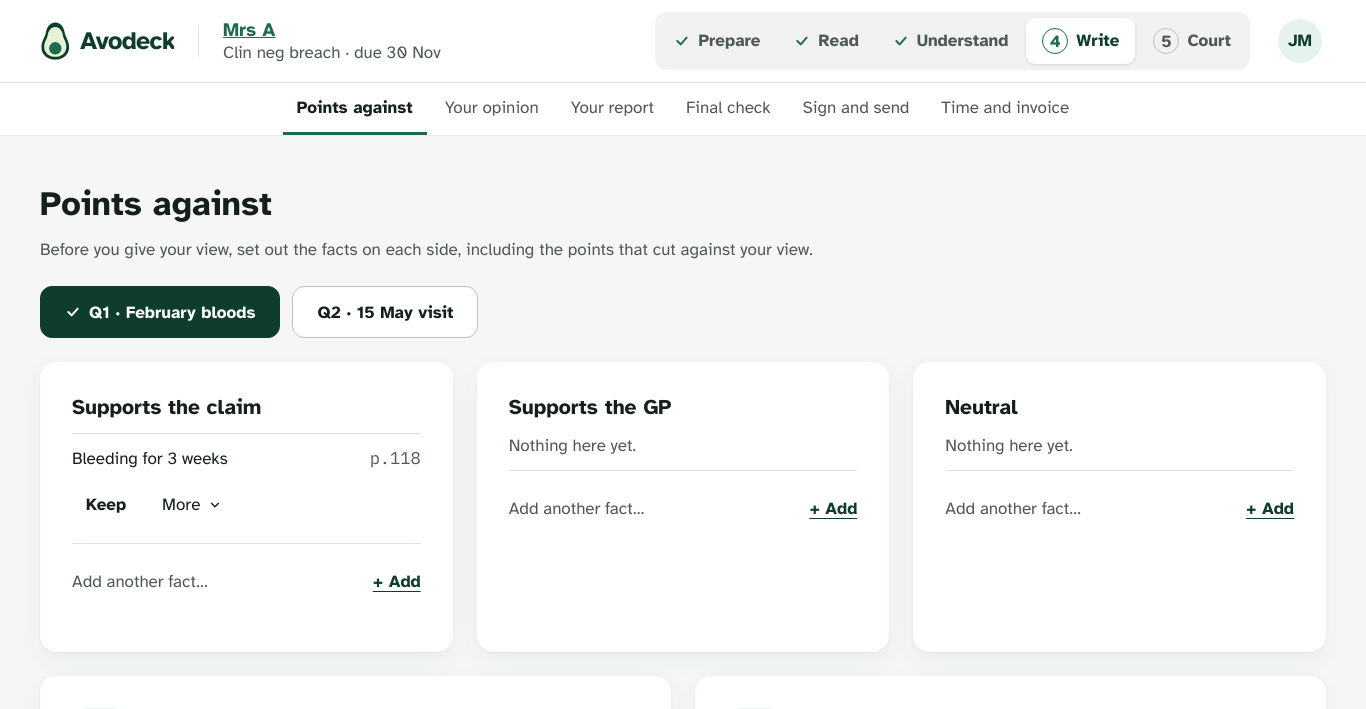
it: moving a point to the other side says so, and a second move sends nothing
Click the button "More". click: {"x": 192, "y": 505}
box: x1=148 y1=479 x2=236 y2=531
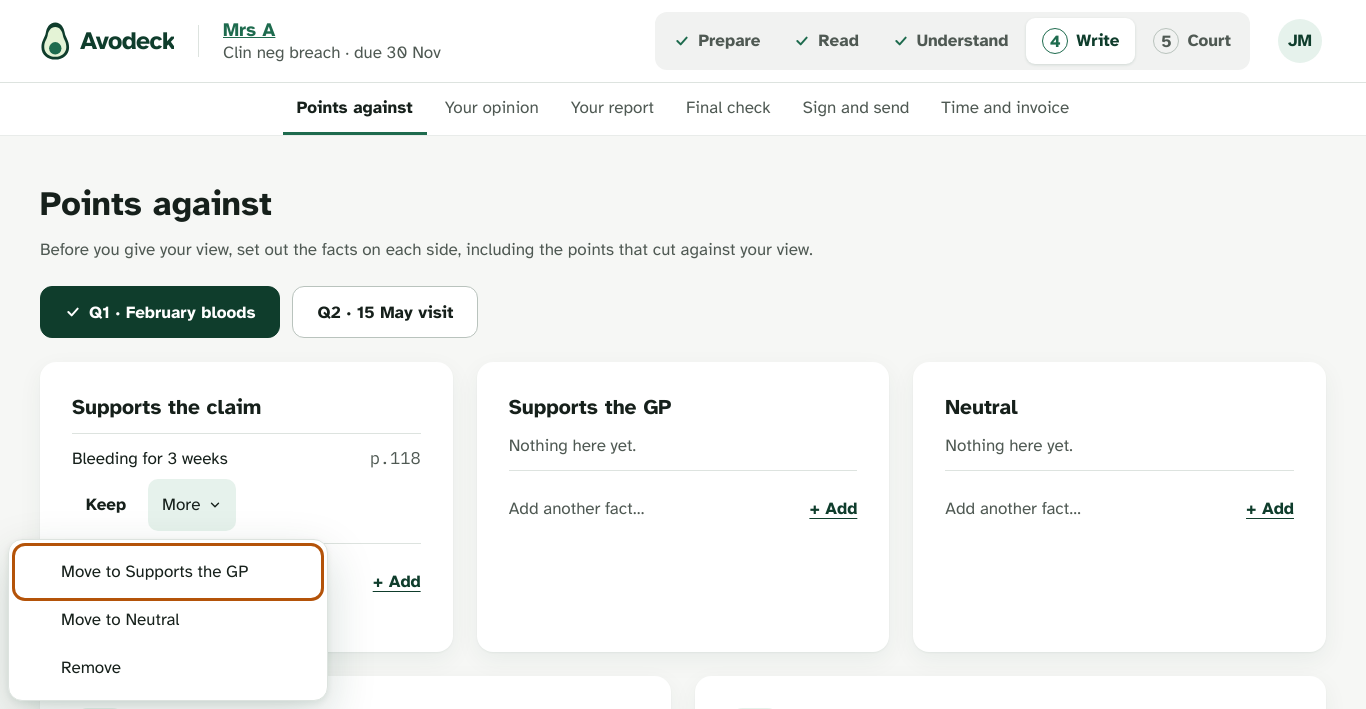
Click the button "Move to Supports the GP". click: {"x": 168, "y": 572}
box: x1=17 y1=548 x2=319 y2=596
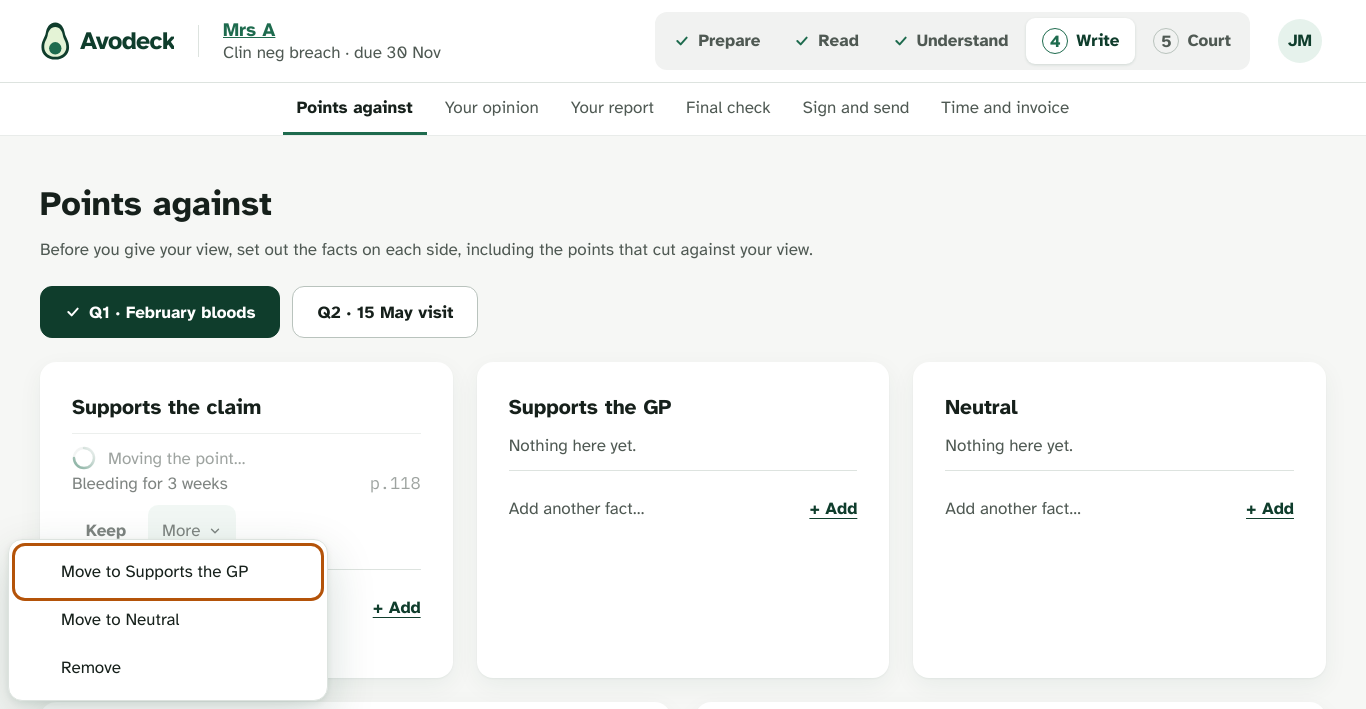
Now the text "Moving the point…" is shown, box x1=72 y1=446 x2=246 y2=470
Click the button "More". click: {"x": 192, "y": 530}
box: x1=148 y1=504 x2=236 y2=556
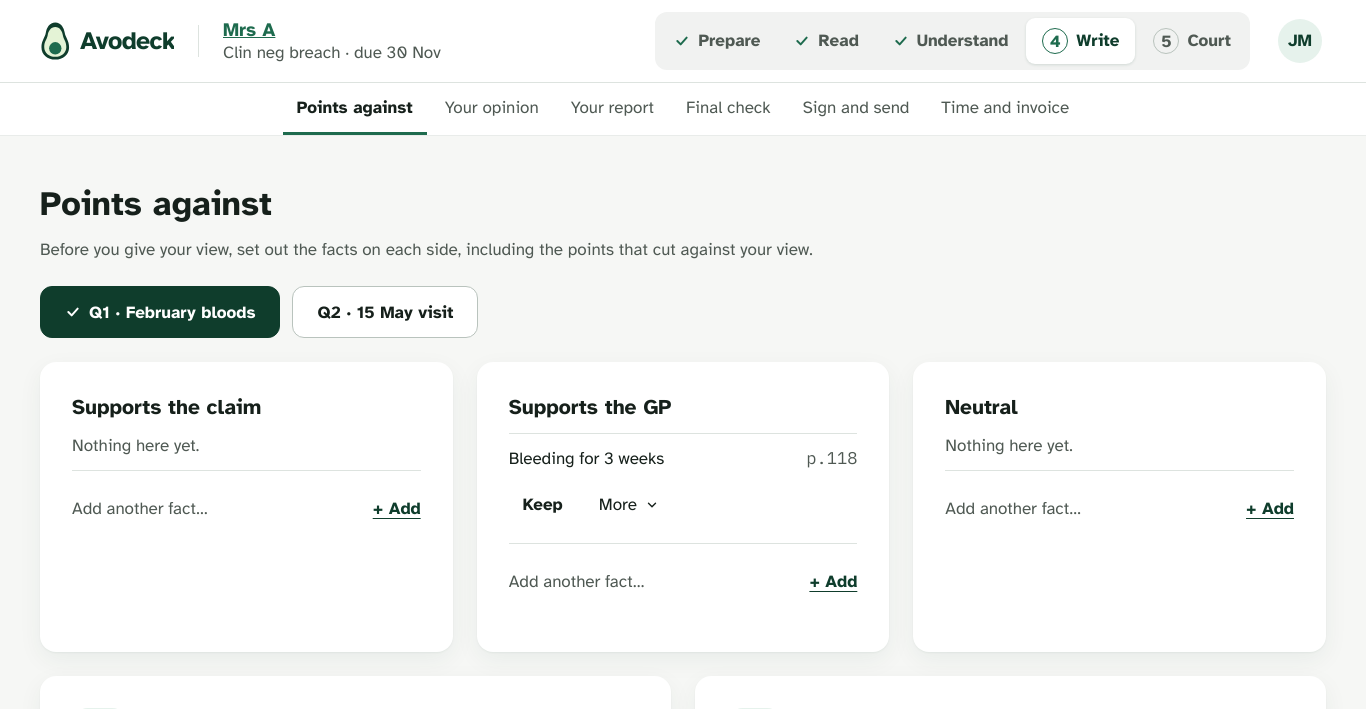
Now the text "Moving the point…" is gone
